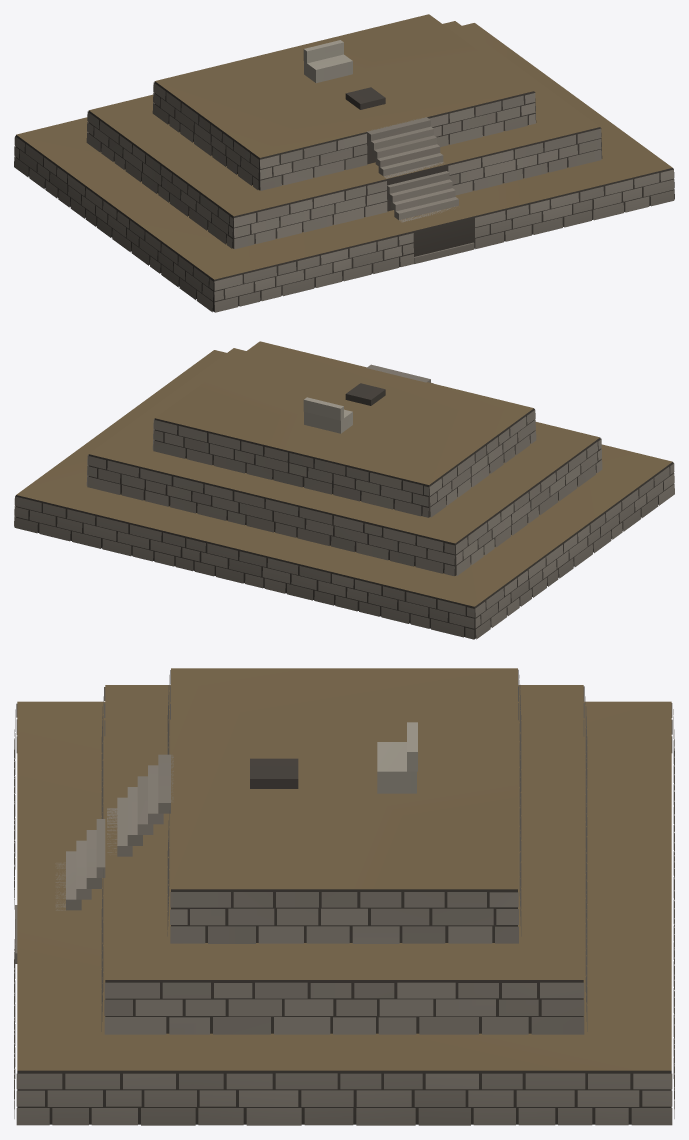
Rendered from cusco_ushnu_lod1.glb.
3 renders of one model, top to bottom at view 1: azimuth 30°, elevation 25°; view 2: azimuth 150°, elevation 25°; view 3: azimuth 270°, elevation 25°, orthographic. The views are drawn at different scales.
Visible parts, largest first — view 1: GEO-Arch_cusco_ushnu_LOD1; view 2: GEO-Arch_cusco_ushnu_LOD1; view 3: GEO-Arch_cusco_ushnu_LOD1.
Boxes of the visible parts, x1,y1,x2,y2 form: GEO-Arch_cusco_ushnu_LOD1: [14, 14, 674, 312]; GEO-Arch_cusco_ushnu_LOD1: [14, 341, 674, 639]; GEO-Arch_cusco_ushnu_LOD1: [14, 668, 674, 1125].
Size of the model in its own units: 20.06 by 5.1 by 15.06.
